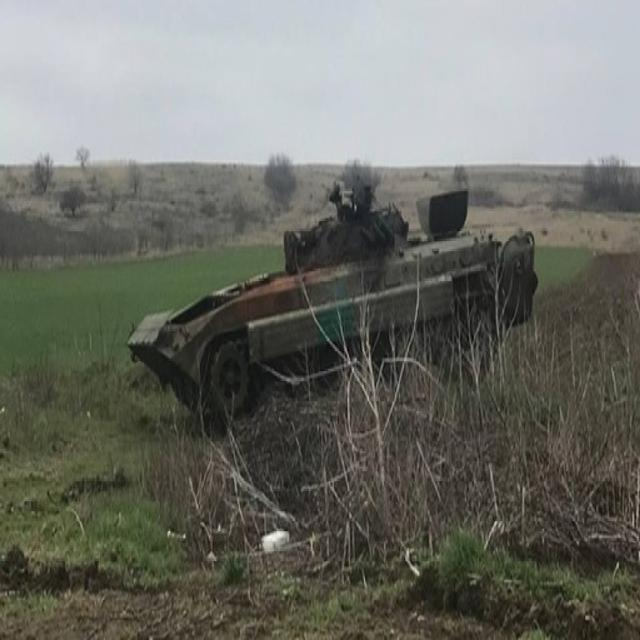APC-IFV: (128, 166, 530, 446)
